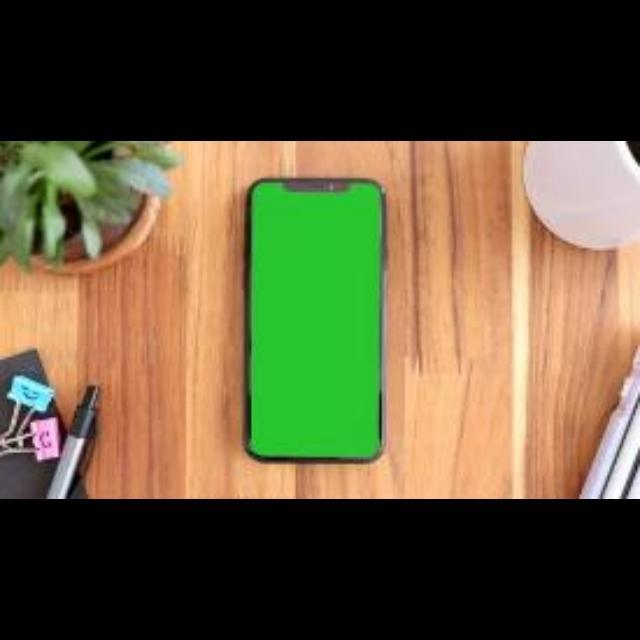Phone: (242, 178, 386, 468)
